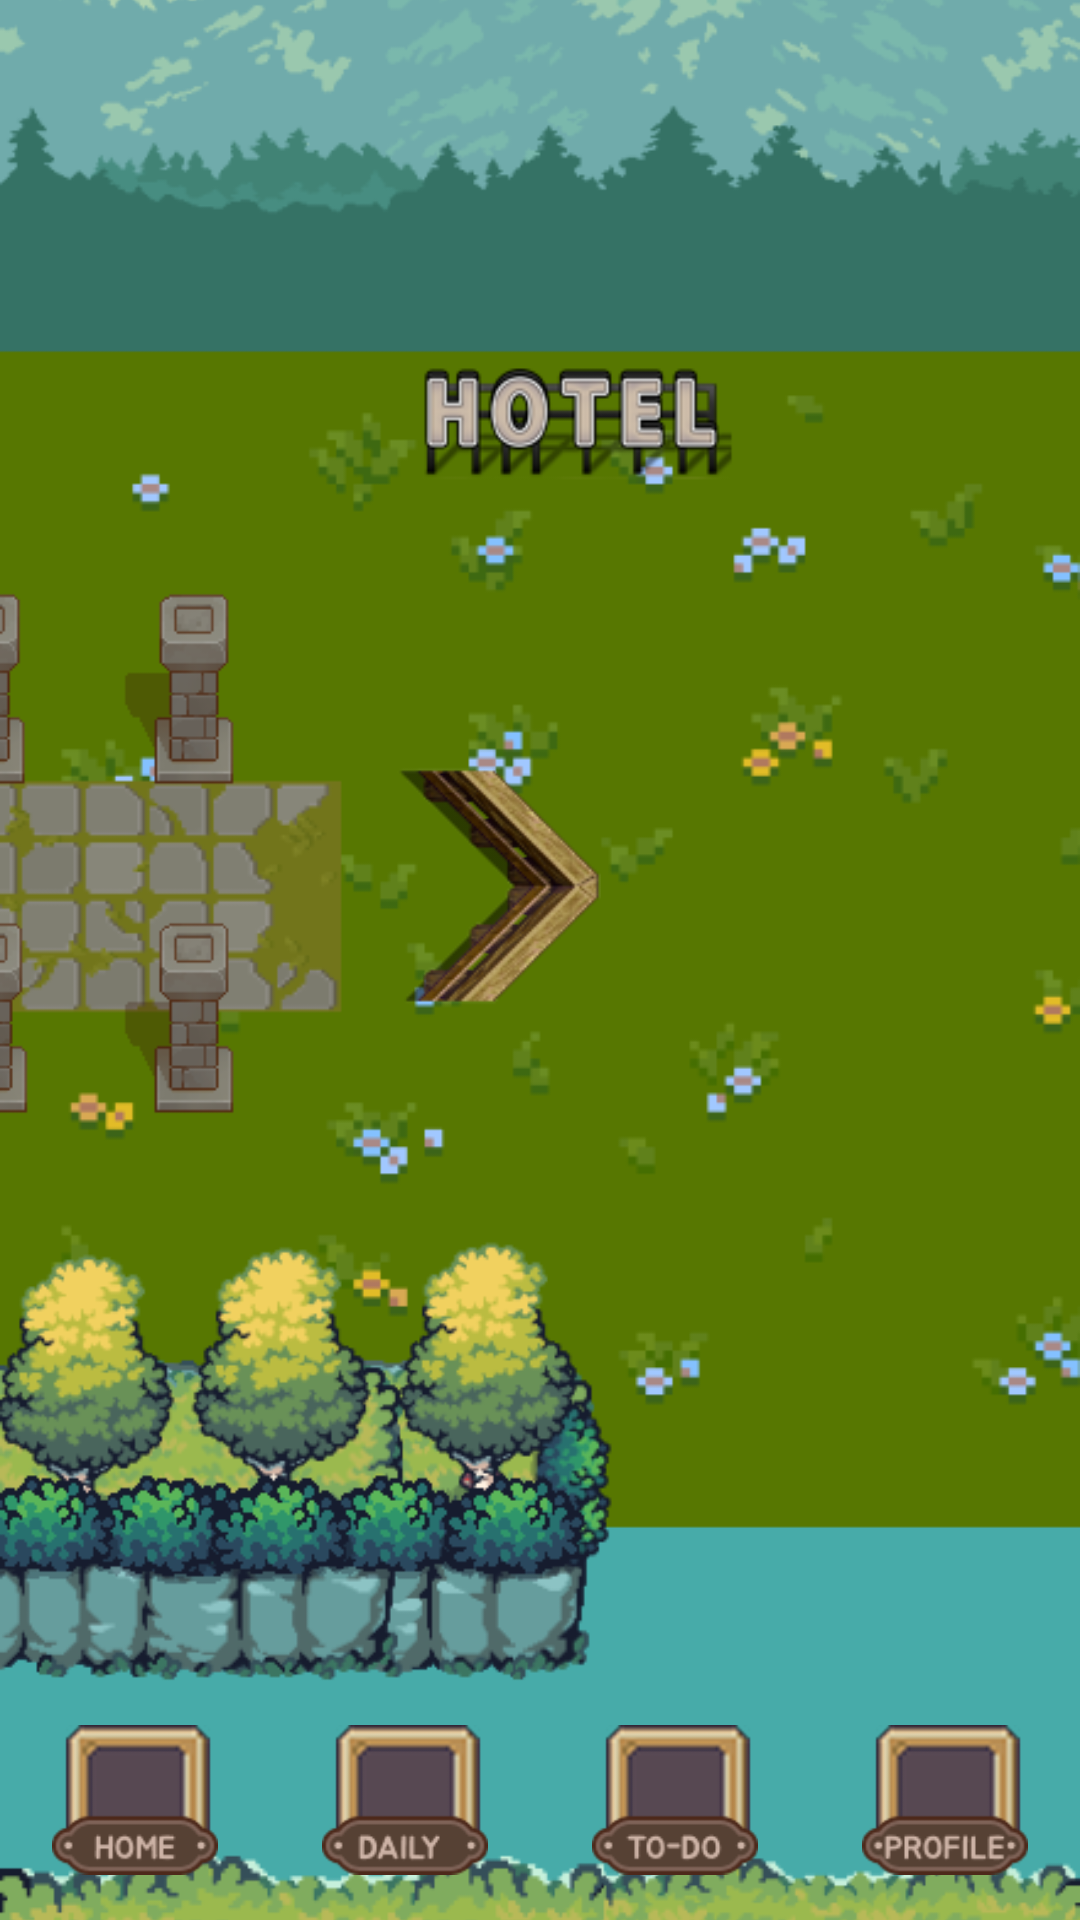

Point at icon controls on the screen. Image size 1080px×1920px, points as (x=x, y=y).
arrowright: (x=497, y=886)
